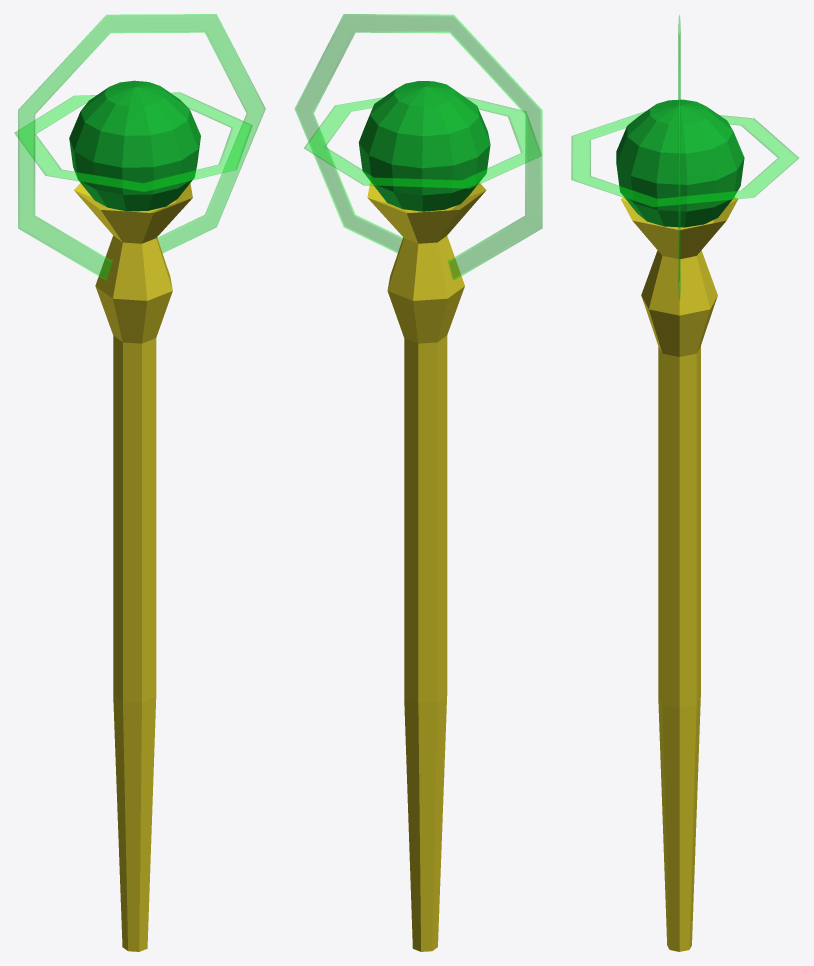
Rendered from Посох времени.FBX.
3 views of the same model, side by side, from view 1: azimuth 30°, elevation 25°; view 2: azimuth 150°, elevation 25°; view 3: azimuth 270°, elevation 25° (orthographic). The views are drawn at different scales.
Parts seen in each view (by area): view 1: Cylinder001, Sphere001, Torus002, Torus001; view 2: Cylinder001, Sphere001, Torus002, Torus001; view 3: Cylinder001, Sphere001, Torus001, Torus002.
Part boxes in pixels (left/top/right/bottom): Cylinder001: left=74, top=183, right=192, bottom=951; Sphere001: left=69, top=80, right=200, bottom=211; Torus002: left=18, top=14, right=265, bottom=280; Torus001: left=14, top=92, right=252, bottom=191; Cylinder001: left=367, top=182, right=486, bottom=951; Sphere001: left=358, top=81, right=490, bottom=211; Torus002: left=295, top=14, right=542, bottom=280; Torus001: left=304, top=96, right=541, bottom=188; Cylinder001: left=621, top=197, right=738, bottom=951; Sphere001: left=616, top=99, right=744, bottom=227; Torus001: left=571, top=111, right=798, bottom=207; Torus002: left=678, top=15, right=680, bottom=300.
Size of the model in its own units: 51.33 by 186 by 41.82.
